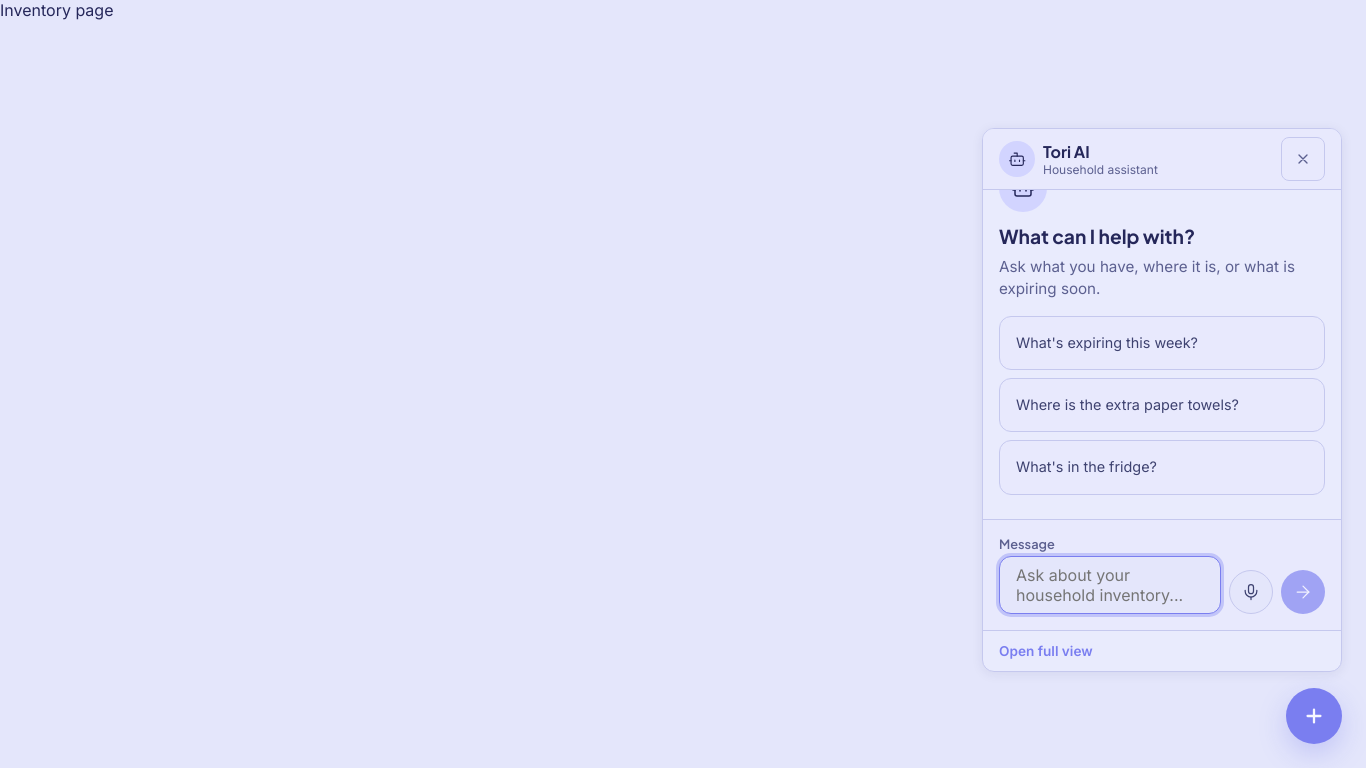
Scenario: ToriWidget › sends a suggested prompt from the widget
(page scrolled)
Step 1. Click the button "What's expiring this week?" → (1162,343), box [999,316,1325,370]
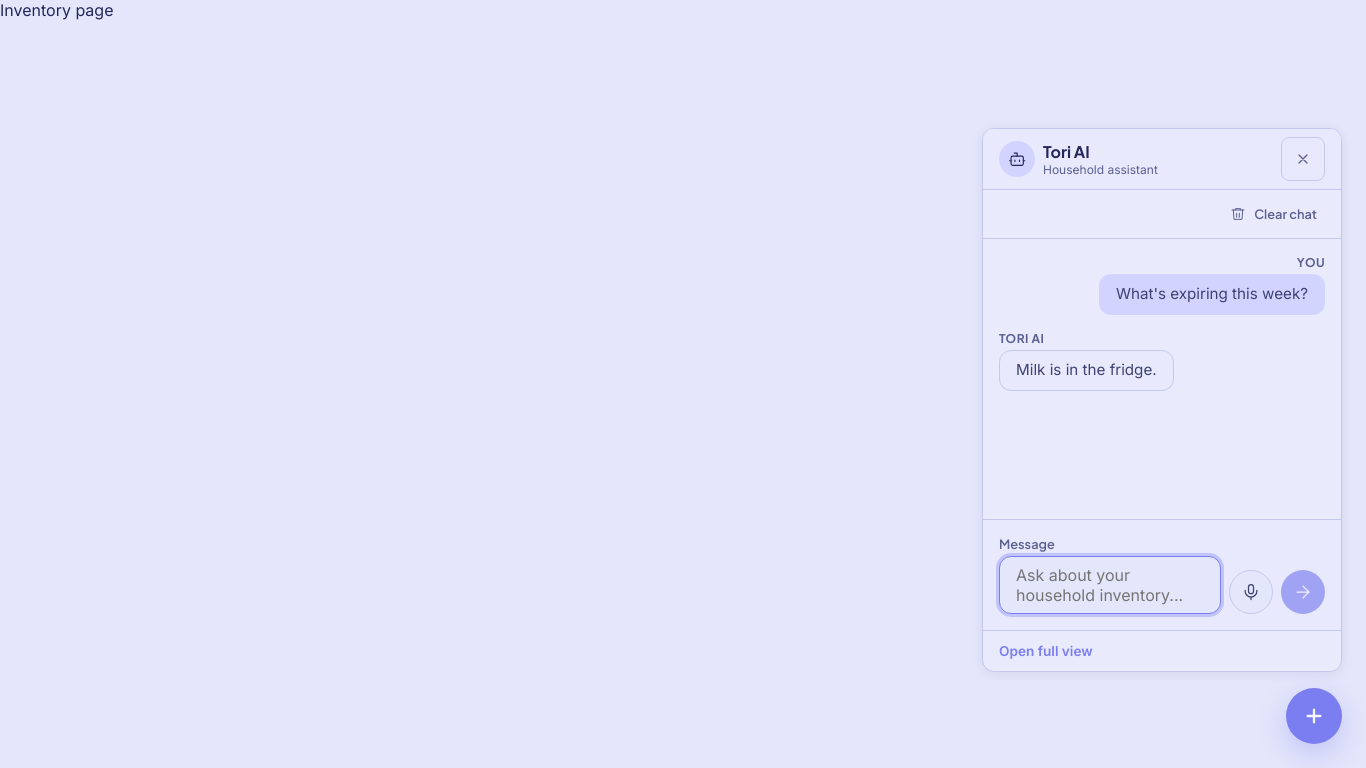
Expected: the text "Inventory page" is shown, [0,0,114,20]
Expected: the text "Milk is in the fridge." is shown, [1016,359,1157,382]
